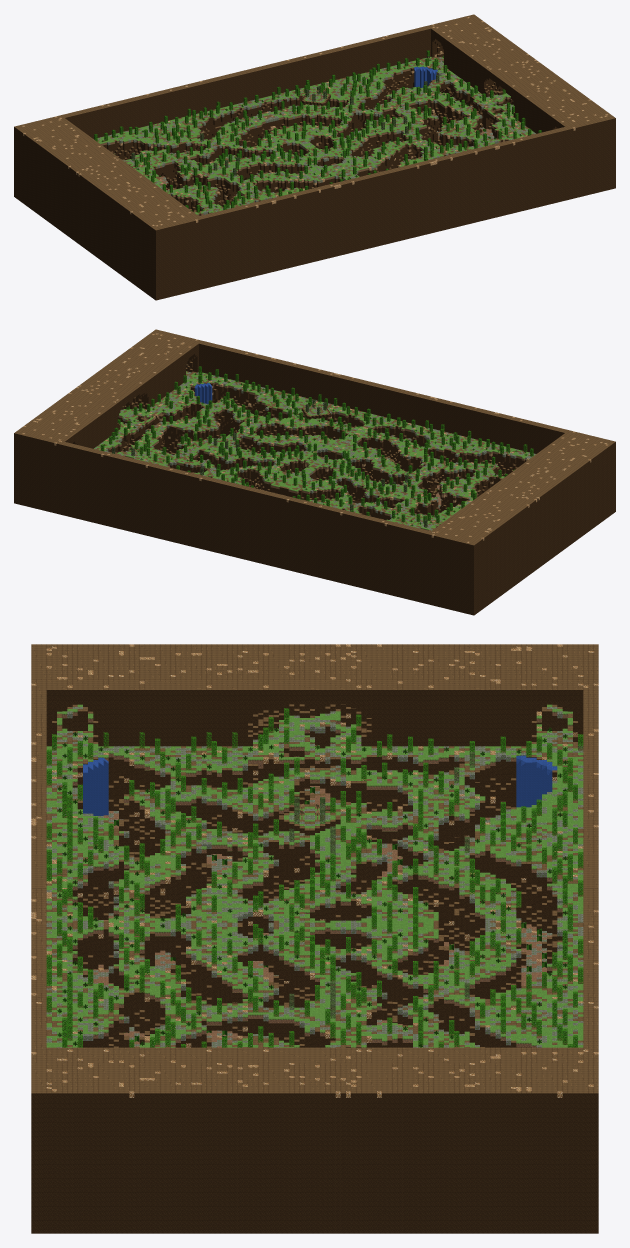
File: minecraft.obj
3 views of the same model, one above another, from view 1: azimuth 30°, elevation 25°; view 2: azimuth 150°, elevation 25°; view 3: azimuth 270°, elevation 25° (orthographic). The views are drawn at different scales.
Size of the model in its own units: 206 by 44 by 110.
